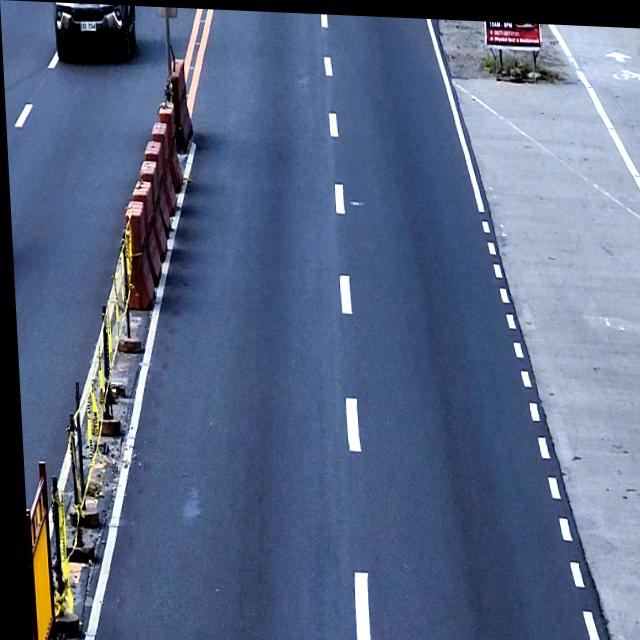Car: (52, 2, 137, 62)
License-Plate: (79, 19, 97, 32)
